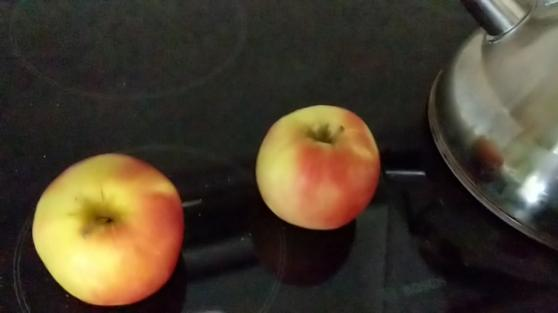apple: (26, 147, 192, 311), (245, 100, 392, 235)
